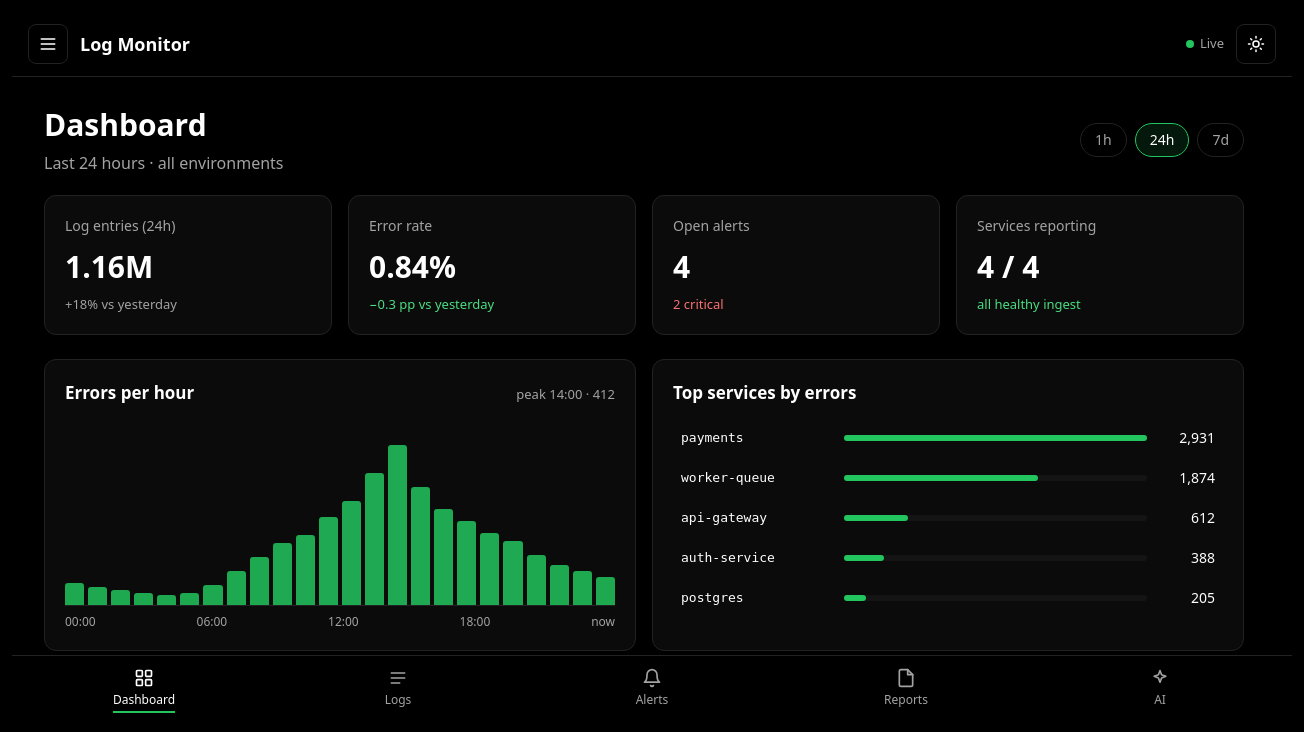
Test case: AppLayout › opens the drawer, navigates from it and closes it
Click the button named "Open menu" at (48, 44), box x1=28 y1=24 x2=68 y2=64
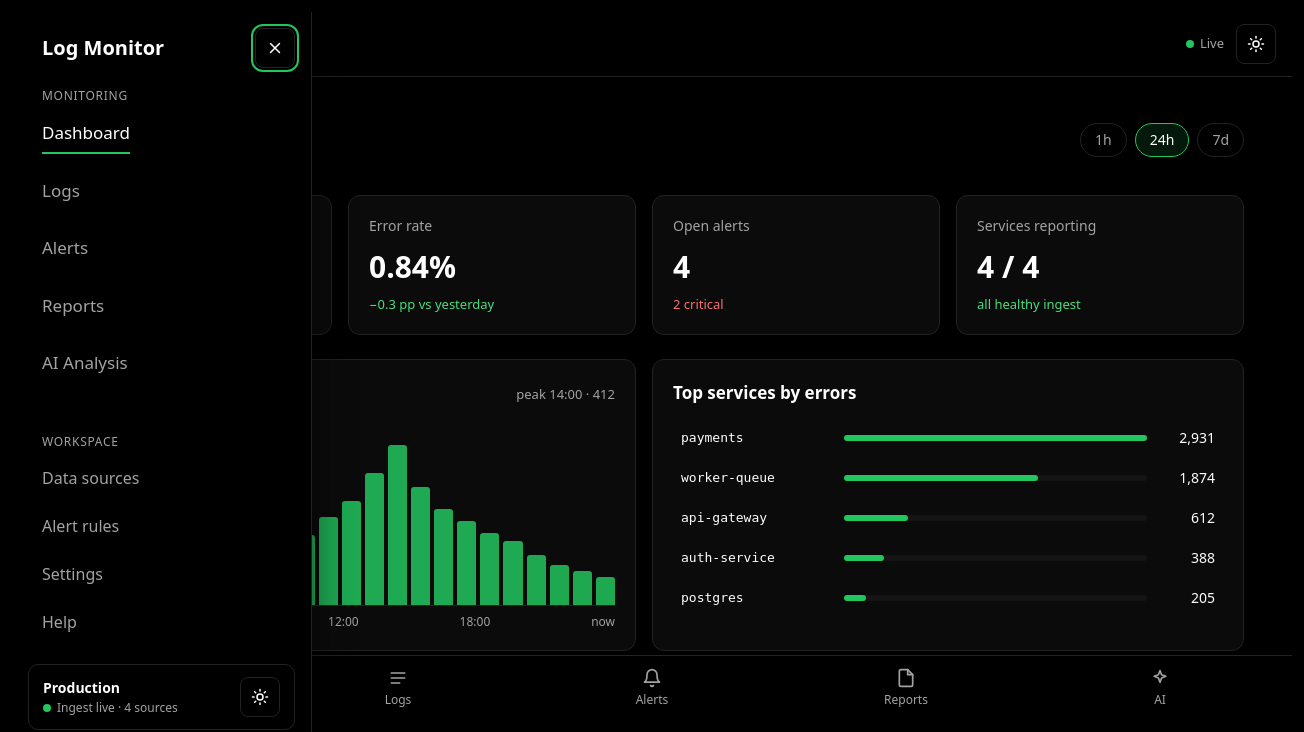
Expected: the button named "Open menu" is expanded, x1=28 y1=24 x2=68 y2=64
Click the link "Alerts" at (65, 248), box x1=42 y1=236 x2=88 y2=259
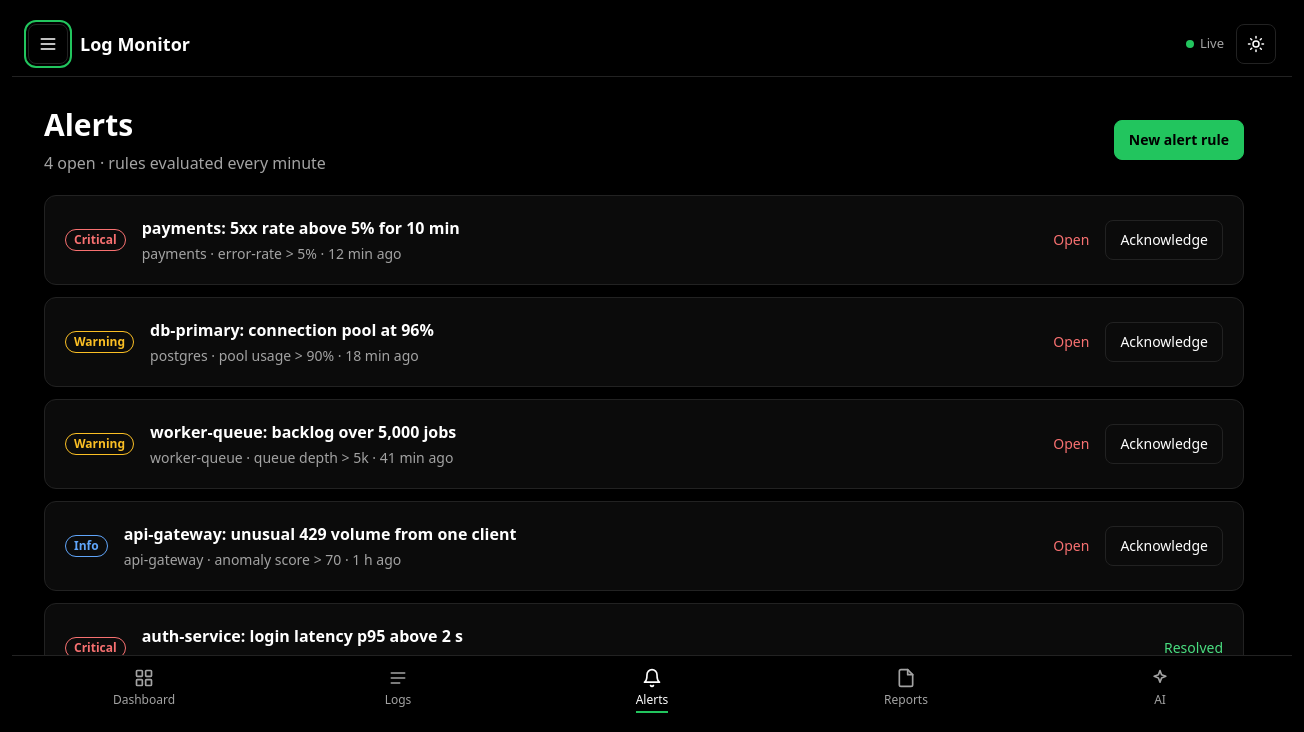
Expected: the heading "Alerts" is shown, x1=44 y1=104 x2=133 y2=145
Expected: the button named "Open menu" is collapsed, x1=28 y1=24 x2=68 y2=64
